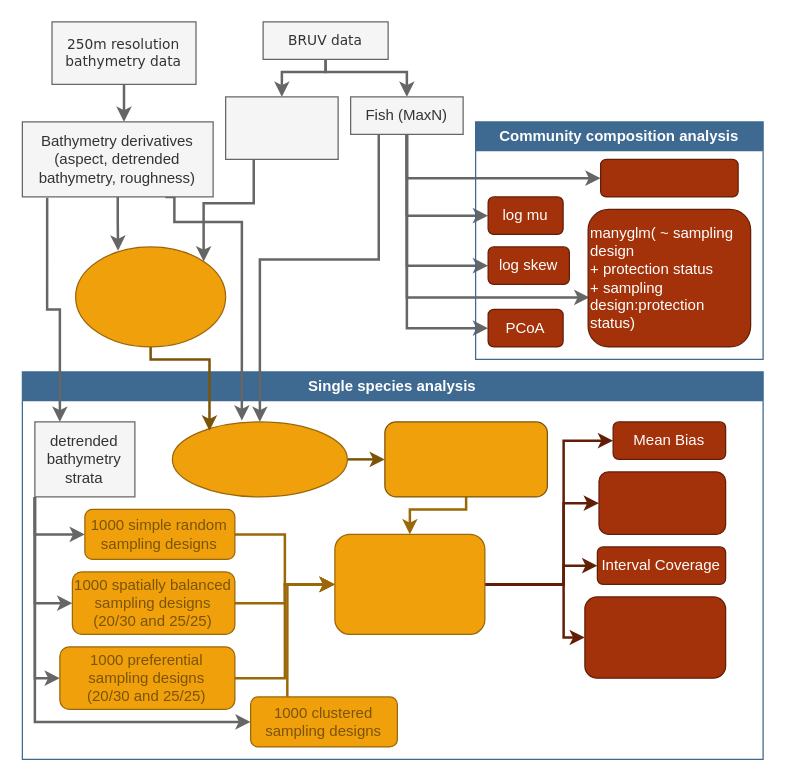
Image size: 785x781. Some labels were removed from this diagram. The shapes that lost their labels are listed below. From the top down, each one's box as (x1, y1, x2, y2) in pixels, then its label:
(224, 96, 338, 159): Habitat (point observation)
(599, 158, 738, 197): total abundance
(74, 246, 226, 347): Habitat prediction model
(171, 421, 347, 497): Fish abundance prediction model
(384, 421, 547, 497): Simulate an 80% abundance increase in the NTZ
(598, 471, 726, 534): Root-Mean-Square-Error (RMSE)
(334, 533, 485, 634): Extract abundance values at simulated sampling design points
(584, 596, 726, 678): Significance test (Student's t-test, Mann Whitney U-test, or GEE)
